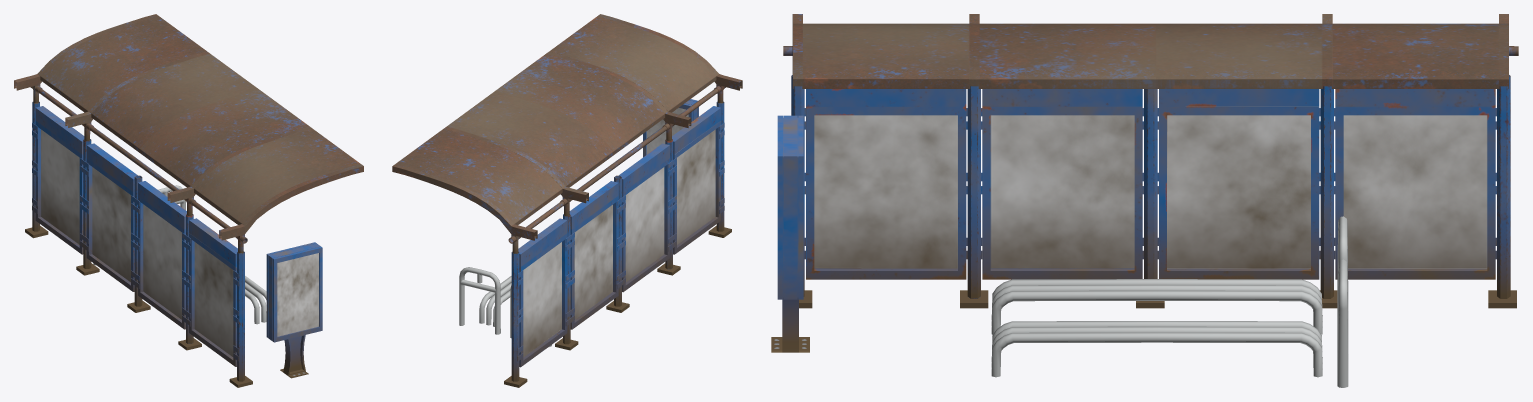
3 renders of one model, left to right at view 1: azimuth 30°, elevation 25°; view 2: azimuth 150°, elevation 25°; view 3: azimuth 270°, elevation 25°, orthographic. The views are drawn at different scales.
Visible parts, largest first — view 1: Roof.001, Cube.005, Plane.005, Cube.002, Circle.001, Plane.009, Circle.007, Plane.006, Seats.001; view 2: Roof.001, Cube.005, Cube.002, Circle.001, Plane.009, Cube.006, Circle.007, Plane.005, Seats.001; view 3: Cube.005, Roof.001, Seats.001, Circle.001, Cube.002, Plane.005, Plane.009, Cube.006, Plane.006.
Boxes of the visible parts, left/top/right/bottom form: Roof.001: left=14, top=14, right=363, bottom=253; Cube.005: left=35, top=121, right=236, bottom=366; Plane.005: left=266, top=242, right=322, bottom=342; Cube.002: left=35, top=106, right=237, bottom=266; Circle.001: left=32, top=101, right=244, bottom=381; Plane.009: left=25, top=122, right=252, bottom=387; Circle.007: left=38, top=88, right=230, bottom=228; Plane.006: left=280, top=335, right=308, bottom=378; Seats.001: left=245, top=276, right=266, bottom=324; Roof.001: left=392, top=14, right=742, bottom=253; Cube.005: left=519, top=121, right=720, bottom=367; Cube.002: left=518, top=106, right=720, bottom=266; Circle.001: left=511, top=101, right=724, bottom=381; Plane.009: left=504, top=123, right=731, bottom=387; Cube.006: left=459, top=267, right=551, bottom=347; Circle.007: left=526, top=88, right=718, bottom=228; Plane.005: left=643, top=99, right=698, bottom=157; Seats.001: left=479, top=276, right=511, bottom=326; Cube.005: left=806, top=106, right=1495, bottom=279; Roof.001: left=783, top=14, right=1518, bottom=88; Seats.001: left=991, top=279, right=1322, bottom=377; Circle.001: left=791, top=75, right=1510, bottom=298; Cube.002: left=806, top=89, right=1495, bottom=106; Plane.005: left=777, top=115, right=803, bottom=299; Plane.009: left=799, top=108, right=1516, bottom=308; Cube.006: left=1337, top=216, right=1348, bottom=387; Plane.006: left=771, top=298, right=809, bottom=352.
Size of the model in its own units: 2.46 by 3.12 by 6.5.
Materials: 5 (5 with a texture image).
